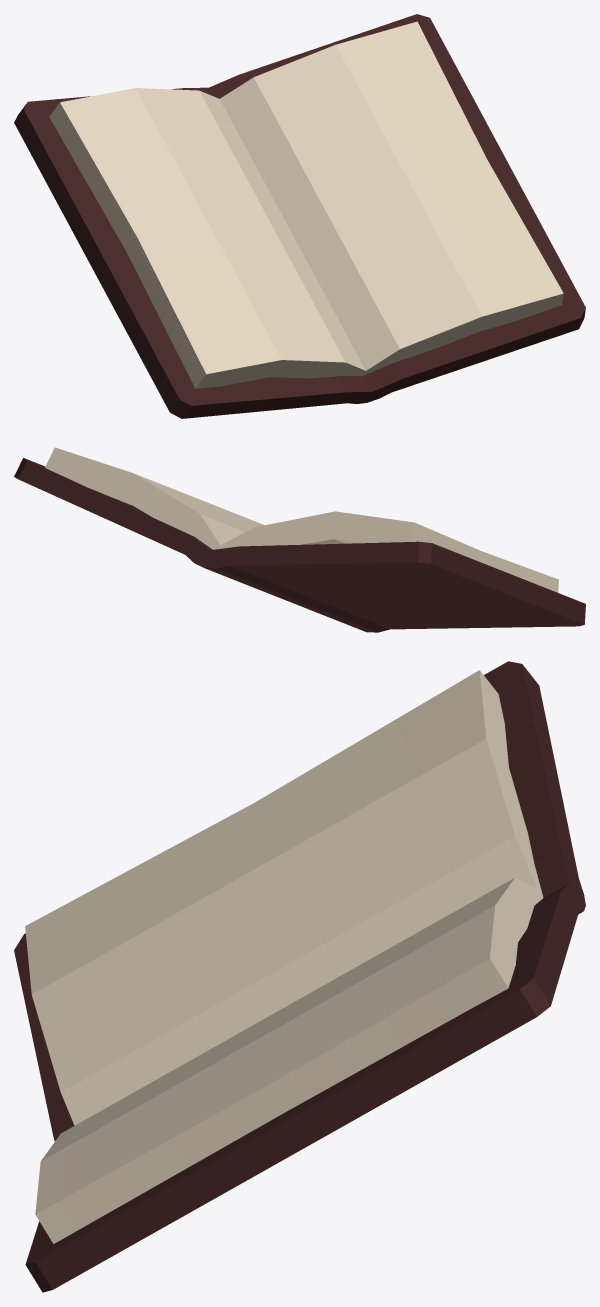
Rendered from BookOpen_Floating.fbx.
The picture shows the model from 3 angles, top to bottom: view 1: azimuth 30°, elevation 25°; view 2: azimuth 150°, elevation 25°; view 3: azimuth 270°, elevation 25°; orthographic projection. The views are drawn at different scales.
Visible parts, largest first — view 1: BookOpen_Floating; view 2: BookOpen_Floating; view 3: BookOpen_Floating.
Boxes of the visible parts, bbox=[...] form: BookOpen_Floating: bbox=[14, 14, 585, 418]; BookOpen_Floating: bbox=[14, 447, 585, 632]; BookOpen_Floating: bbox=[14, 661, 585, 1292].
Size of the model in its own units: 107 by 61.1 by 81.81.
